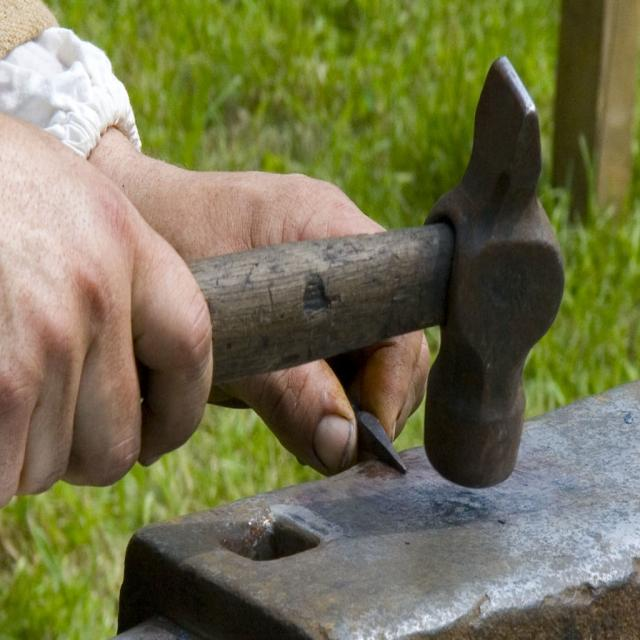hammer: (113, 51, 565, 490)
